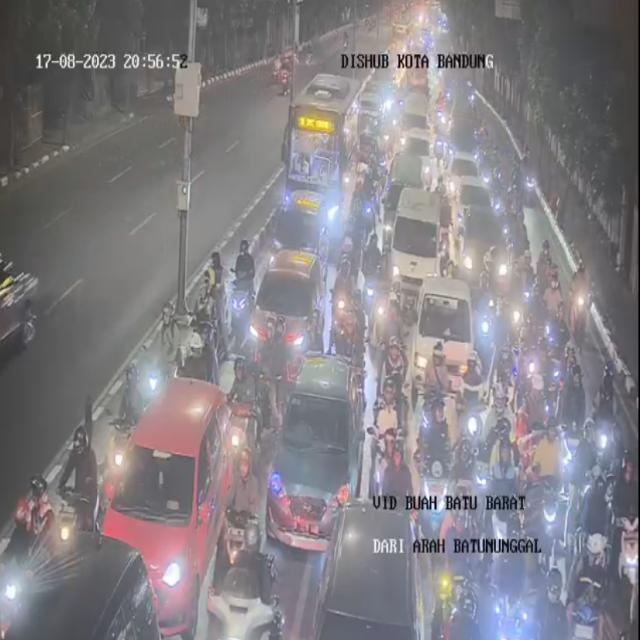bus: (282, 94, 360, 236)
cars: (98, 382, 240, 618), (267, 349, 350, 556), (0, 542, 167, 640), (326, 496, 416, 639), (251, 242, 321, 362), (414, 273, 476, 392), (393, 183, 439, 311), (463, 207, 509, 291), (392, 137, 423, 206), (452, 178, 494, 223), (398, 134, 434, 180), (445, 155, 480, 189), (361, 84, 383, 136), (400, 108, 430, 136)
motorcycle: (205, 512, 274, 636), (0, 478, 61, 603), (440, 491, 481, 631), (490, 488, 521, 638), (615, 445, 640, 614), (225, 357, 263, 465), (532, 418, 564, 546), (61, 426, 96, 528), (376, 427, 416, 515), (416, 408, 446, 524), (518, 354, 555, 448), (576, 531, 604, 640), (418, 338, 448, 436), (470, 238, 497, 346), (262, 316, 294, 404), (535, 566, 570, 638), (380, 330, 406, 425), (570, 404, 604, 476), (585, 472, 612, 562), (153, 296, 180, 383), (124, 341, 148, 438), (329, 248, 353, 345), (233, 452, 258, 544), (230, 242, 254, 335), (601, 353, 626, 442), (368, 255, 391, 347), (180, 319, 215, 379), (573, 291, 603, 359), (454, 438, 478, 518), (561, 341, 588, 410), (490, 418, 514, 483), (344, 298, 368, 363), (523, 316, 544, 390), (199, 264, 220, 338), (376, 376, 397, 444), (490, 345, 514, 403), (348, 171, 368, 240), (573, 256, 591, 327), (508, 288, 526, 348), (538, 243, 558, 294), (363, 232, 377, 303), (510, 202, 528, 256), (516, 196, 534, 250), (440, 194, 454, 252), (506, 170, 524, 215), (546, 267, 560, 314), (438, 90, 453, 128), (477, 121, 494, 154), (491, 154, 507, 188)
